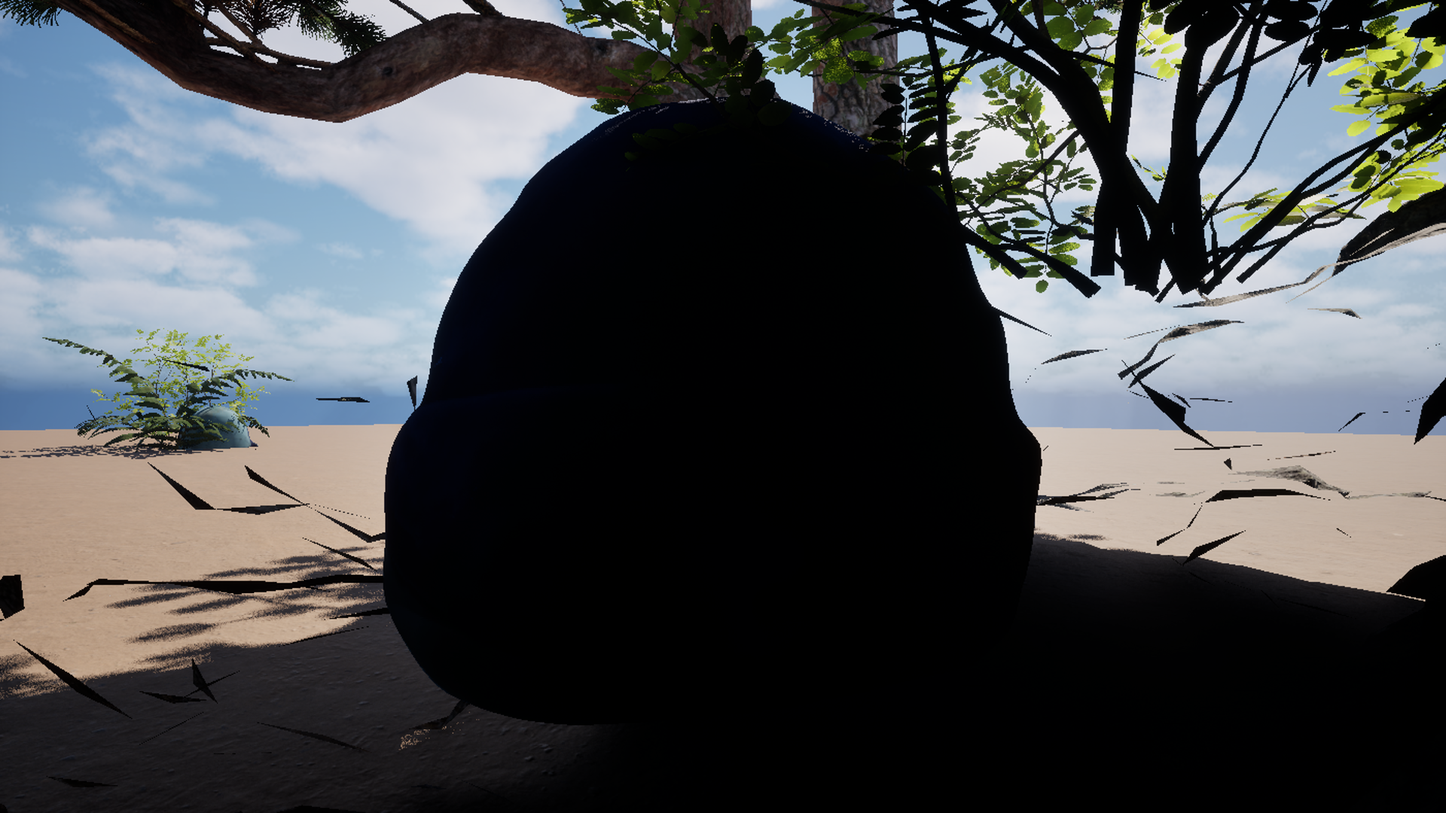Piplup: (128, 0, 1368, 813)
